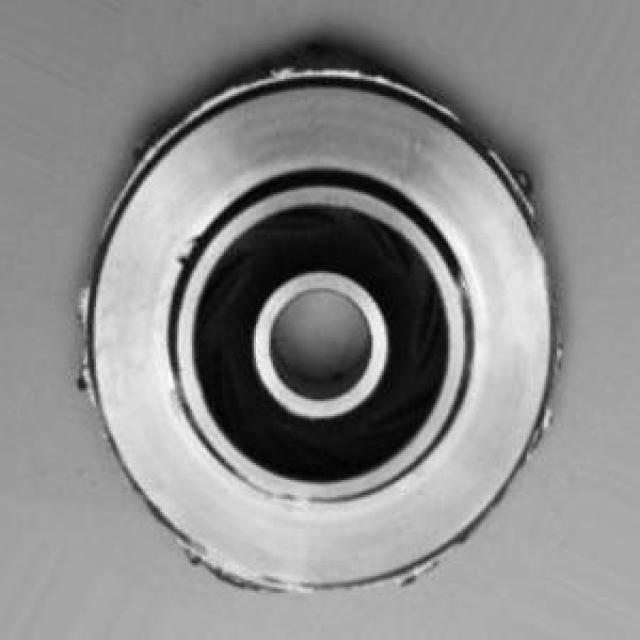Defect: (499, 148, 543, 211)
